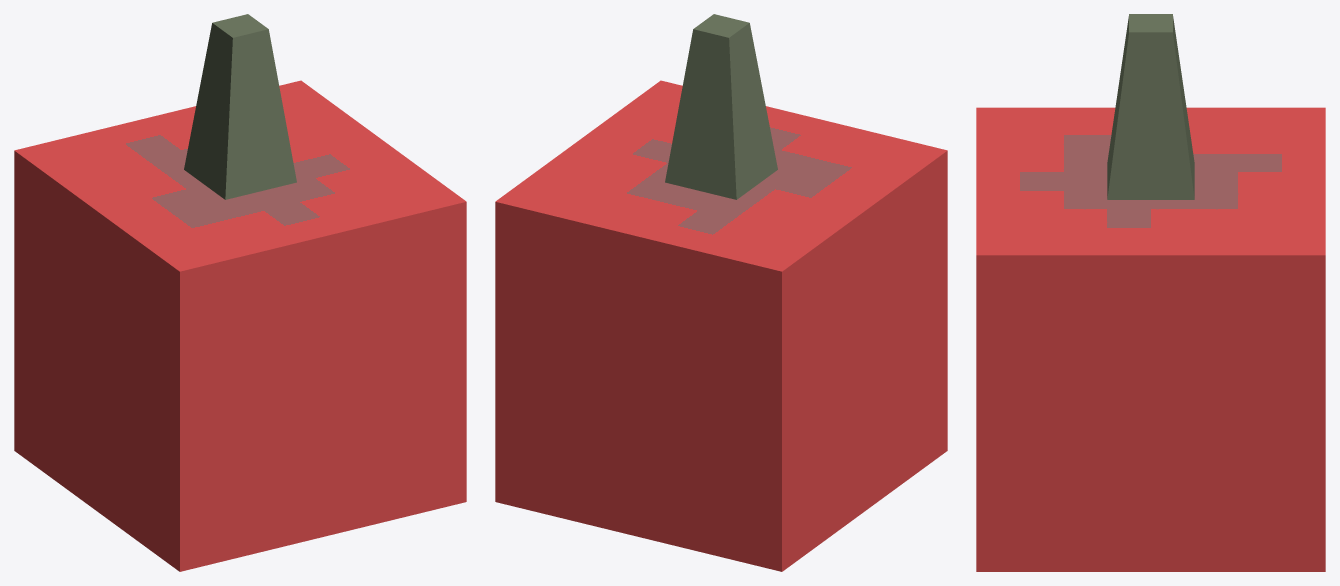
File: apple.fbx
3 views of the same model, side by side, from view 1: azimuth 30°, elevation 25°; view 2: azimuth 150°, elevation 25°; view 3: azimuth 270°, elevation 25° (orthographic). The views are drawn at different scales.
Visible parts, largest first — view 1: cube; view 2: cube; view 3: cube.
Part boxes in pixels (bbox=[...]): cube: bbox=[14, 14, 466, 571]; cube: bbox=[495, 14, 947, 571]; cube: bbox=[976, 14, 1325, 571].
Bounding box in the file's own units: 25 × 37.5 × 25.
Materials: 1 (1 with a texture image).
